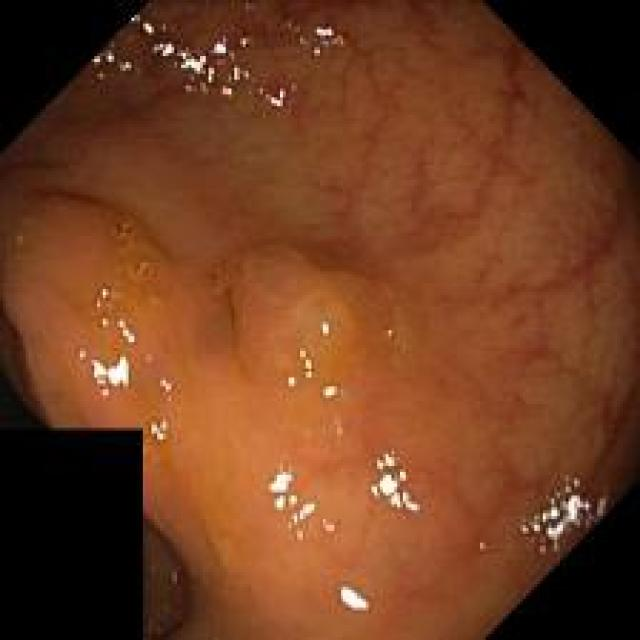Polyps: (230, 246, 390, 382)
